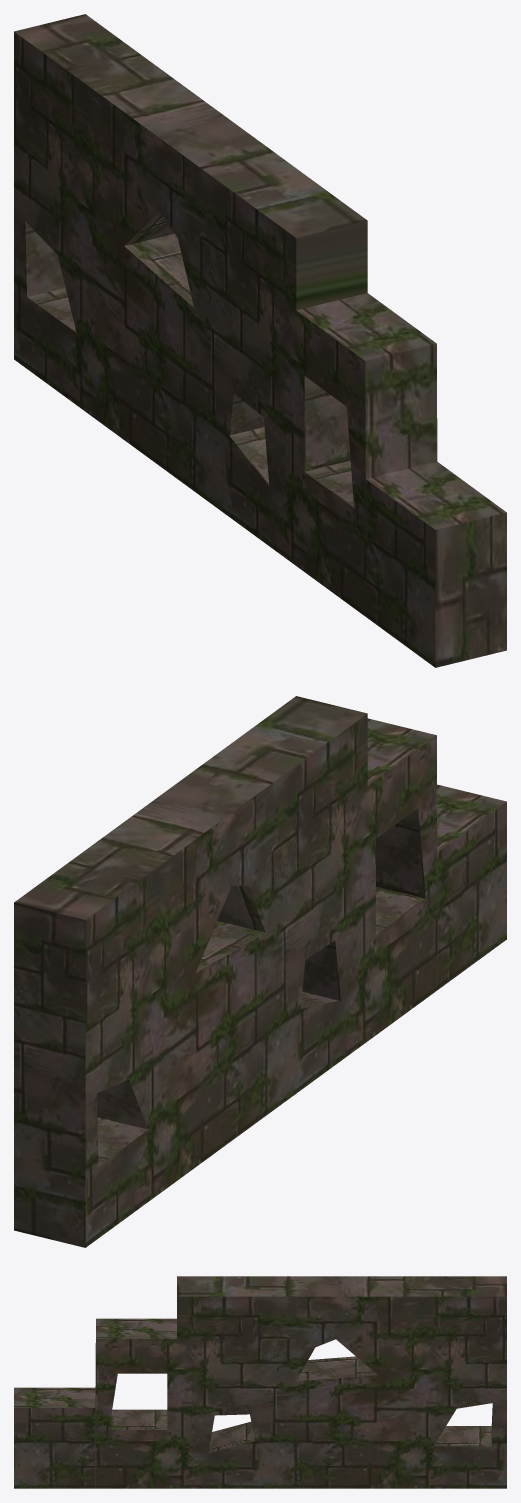
The model's file is paredequebrada1.fbx.
The picture shows the model from 3 angles, top to bottom: view 1: azimuth 30°, elevation 25°; view 2: azimuth 150°, elevation 25°; view 3: azimuth 270°, elevation 25°; orthographic projection. The views are drawn at different scales.
Parts seen in each view (by area): view 1: Cube.002; view 2: Cube.002; view 3: Cube.002.
Boxes of the visible parts, x1,y1,x2,y2 form: Cube.002: (14,14,506,667); Cube.002: (14,696,506,1247); Cube.002: (14,1276,506,1488).
Size of the model in its own units: 63.84 by 280 by 652.
Materials: 1 (1 with a texture image).
